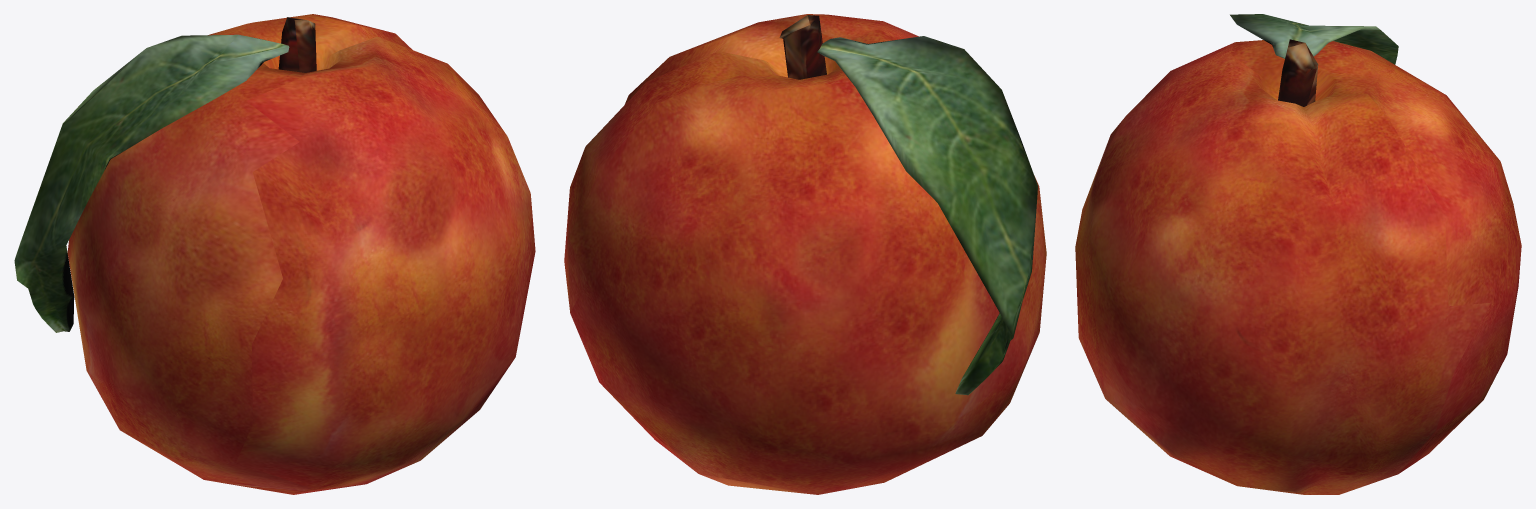
The model's file is peach.obj.
3 views of the same model, side by side, from view 1: azimuth 30°, elevation 25°; view 2: azimuth 150°, elevation 25°; view 3: azimuth 270°, elevation 25° (orthographic). The views are drawn at different scales.
Parts seen in each view (by area): view 1: peach; view 2: peach; view 3: peach.
Part boxes in pixels (<box>): peach: <box>14,14,535,494</box>; peach: <box>564,14,1046,494</box>; peach: <box>1075,14,1521,494</box>.
Bounding box in the file's own units: 0.1358 × 0.1297 × 0.1226.
1 material, 1 textured.
